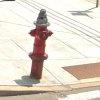a fire hydrant: (28, 10, 54, 84)
